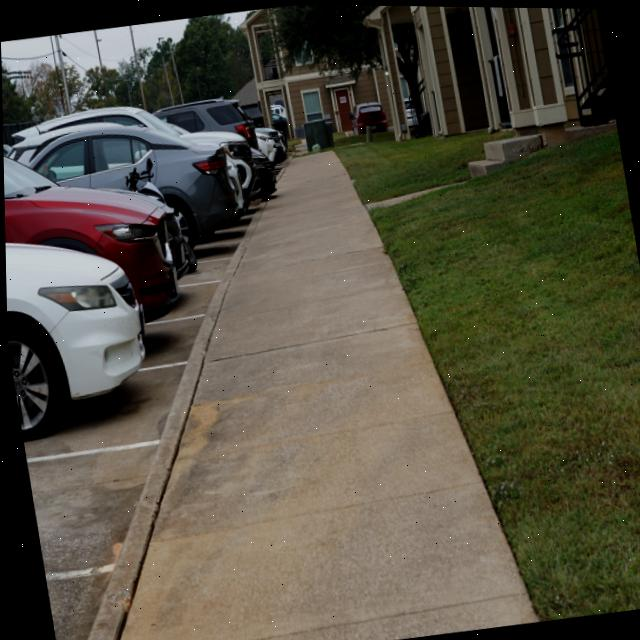Automobile: (23, 115, 242, 247), (3, 158, 178, 317), (4, 243, 143, 399), (189, 131, 261, 213), (12, 106, 176, 142), (153, 97, 258, 147), (124, 107, 185, 136), (13, 382, 46, 429), (249, 147, 275, 195), (351, 101, 388, 133), (182, 131, 247, 145), (257, 134, 277, 164)
Obstacle: (303, 119, 333, 150)
Road: (22, 245, 236, 458), (25, 447, 155, 573), (44, 578, 103, 640)
Sidewalk: (84, 151, 536, 640)
